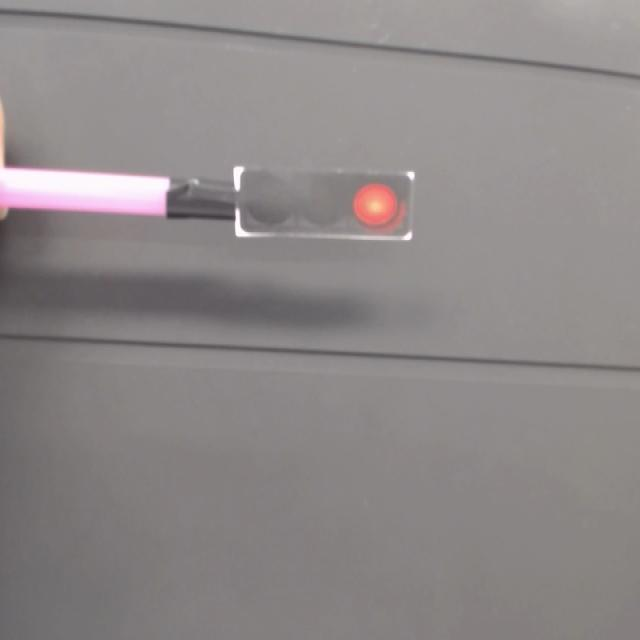traffic light: (232, 165, 418, 247)
